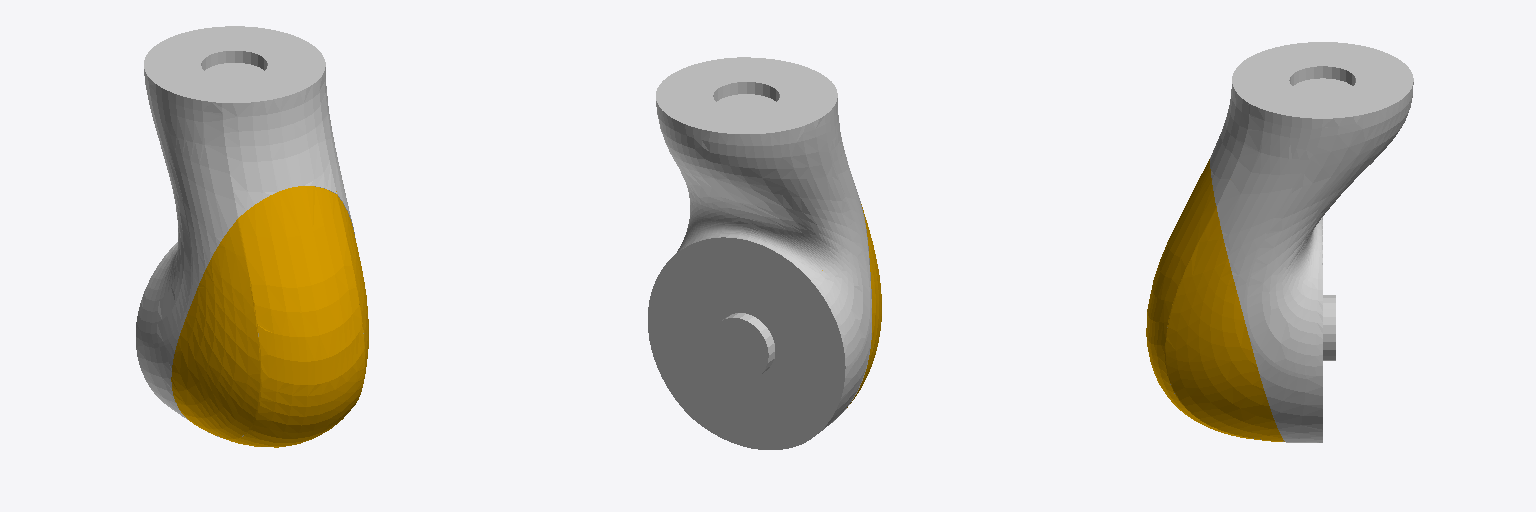
3 views of the same model, side by side, from view 1: azimuth 30°, elevation 25°; view 2: azimuth 150°, elevation 25°; view 3: azimuth 270°, elevation 25° (orthographic).
Parts seen in each view (by area): view 1: Link2_14_ShapeIndexedFaceSet.001; view 2: Link2_14_ShapeIndexedFaceSet.001; view 3: Link2_14_ShapeIndexedFaceSet.001.
Part boxes in pixels (left/top/right/bottom): Link2_14_ShapeIndexedFaceSet.001: left=136, top=26, right=368, bottom=447; Link2_14_ShapeIndexedFaceSet.001: left=648, top=57, right=881, bottom=449; Link2_14_ShapeIndexedFaceSet.001: left=1146, top=42, right=1413, bottom=442.
Bounding box in the file's own units: 0.171 × 0.2899 × 0.2001.
1 materials, 1 textured.